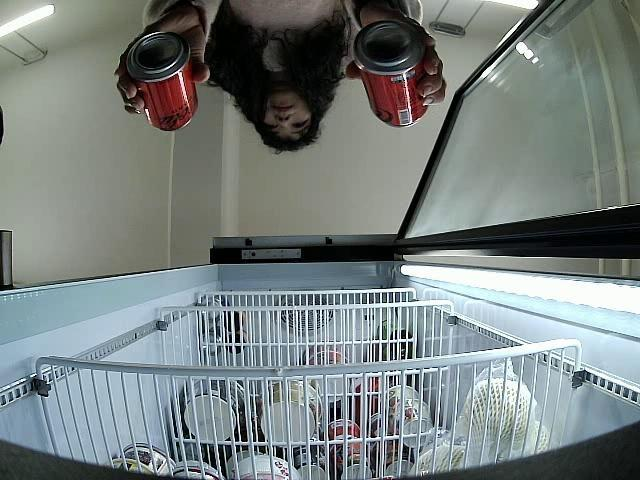11_cocaColaZero: (354, 21, 430, 130), (126, 30, 200, 130)
